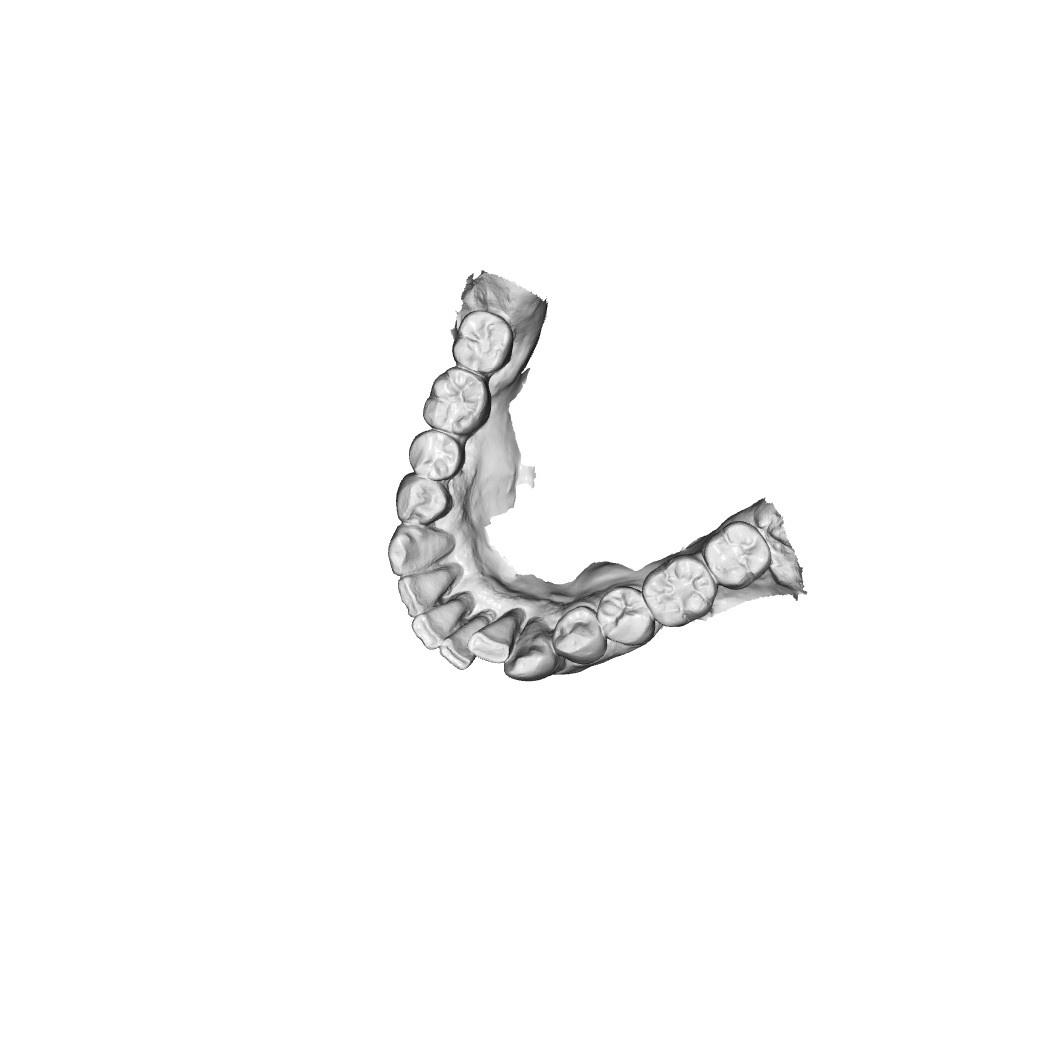canine: (385, 522, 455, 573), (506, 622, 557, 686)
incisor: (396, 566, 462, 614), (413, 602, 463, 652), (442, 613, 487, 665), (474, 616, 519, 658)
molar: (647, 557, 715, 630), (420, 369, 492, 434), (704, 520, 768, 590), (457, 315, 512, 374)
premolar: (407, 430, 464, 484), (603, 588, 651, 649), (396, 474, 449, 524), (559, 610, 602, 657)
